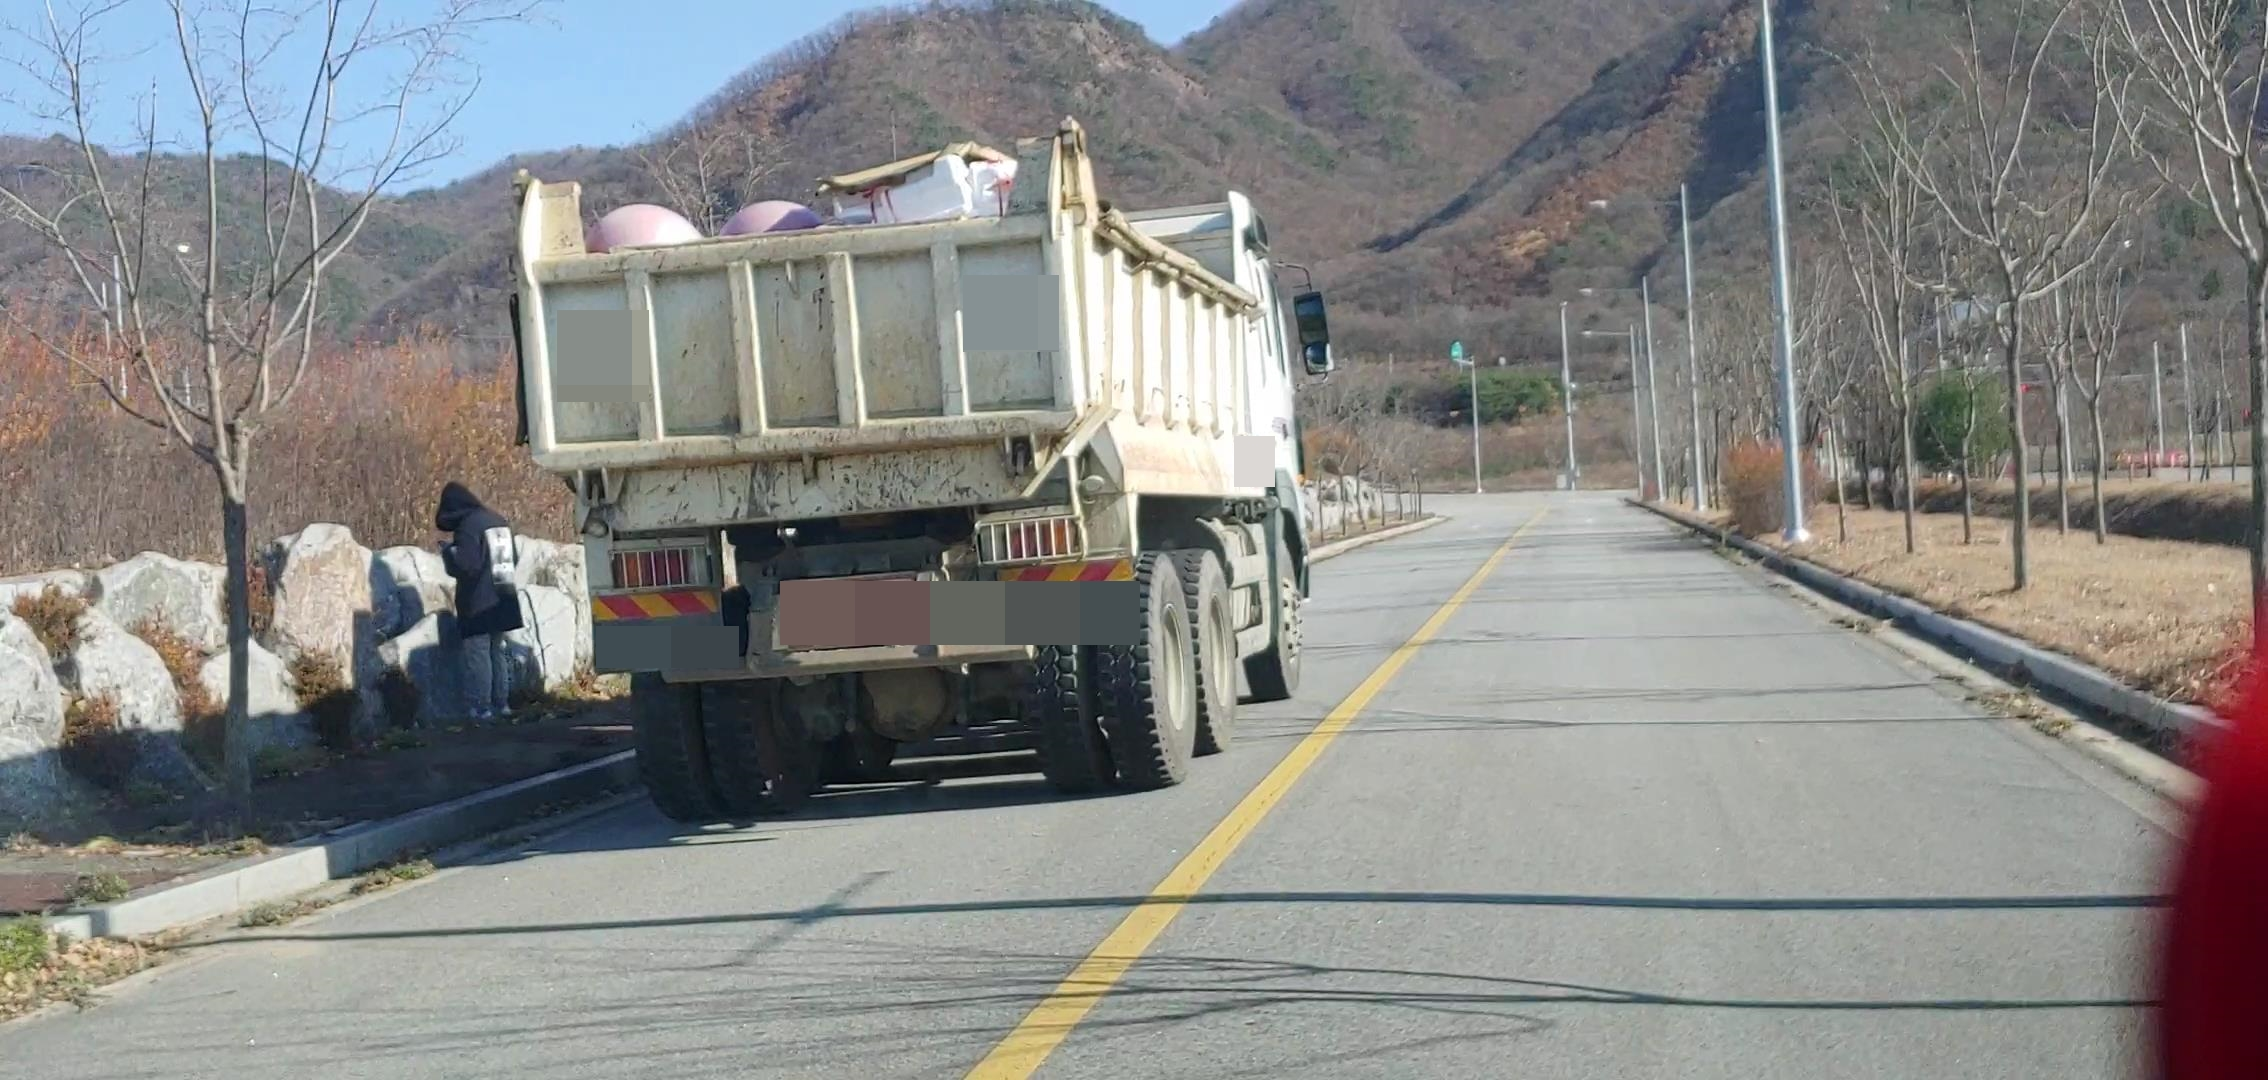불법차량: (509, 114, 1336, 823)
